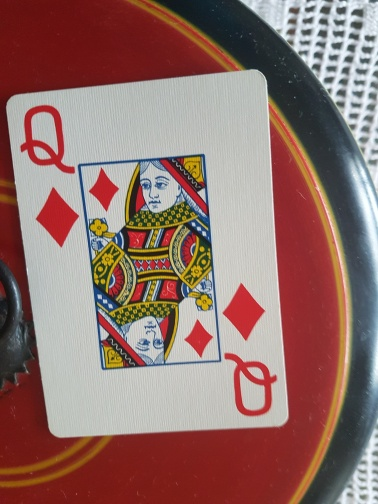queen: (7, 69, 290, 438)
